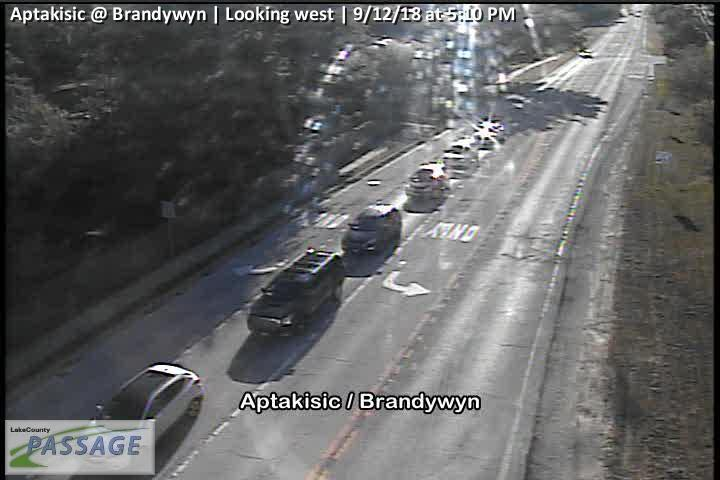SUV: (246, 247, 345, 334)
Sedan: (86, 363, 202, 454), (343, 204, 400, 252), (405, 163, 448, 198), (441, 142, 477, 170), (474, 117, 504, 145)
